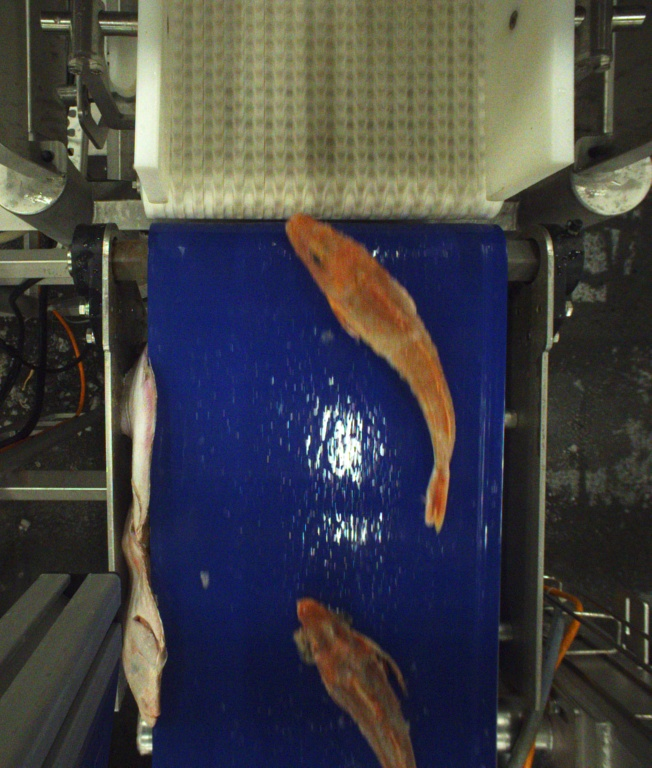GUU: (295, 596, 417, 768)
